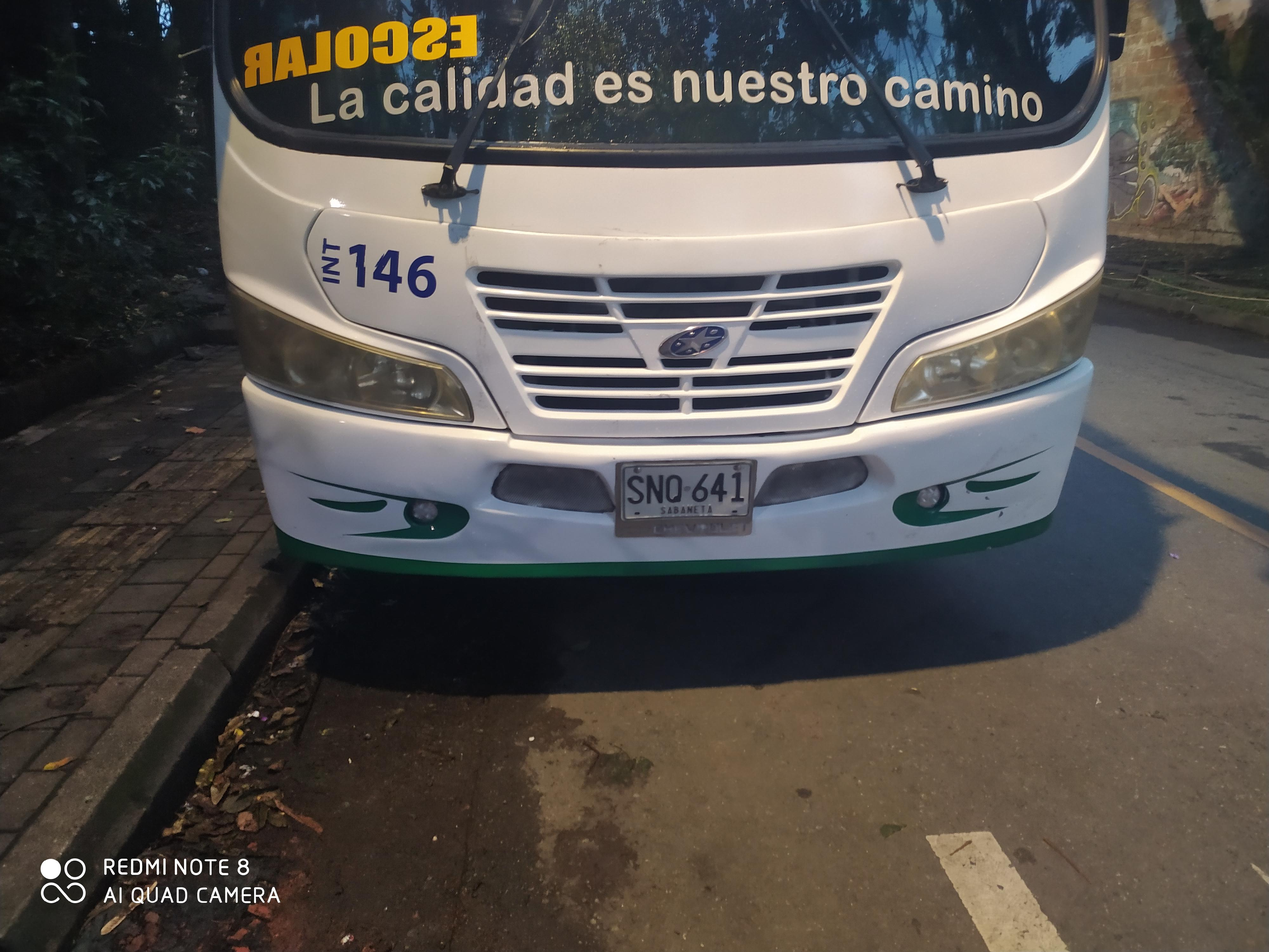placa: (615, 460, 752, 524)
